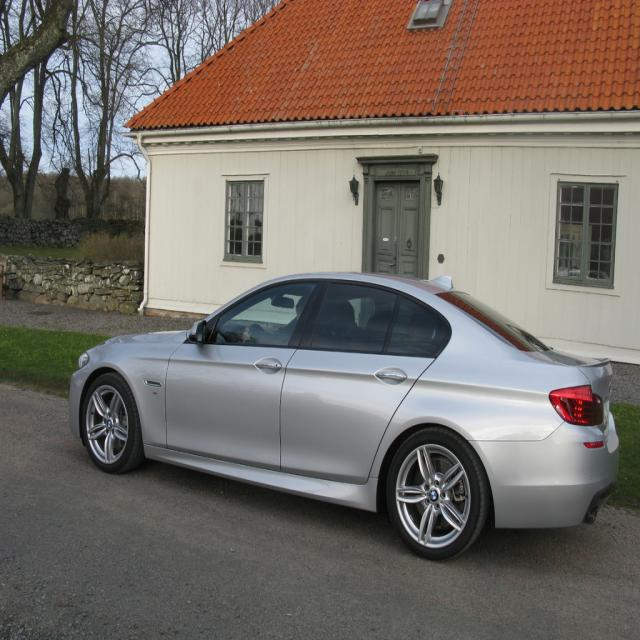car: (60, 268, 602, 557)
